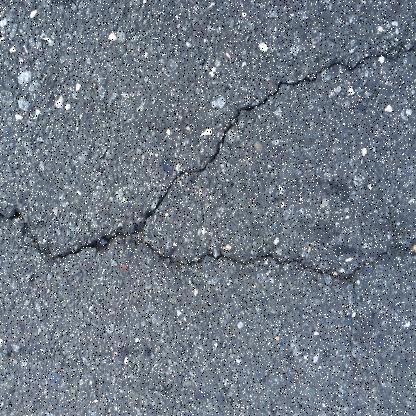Cracks: (0, 41, 415, 289)
